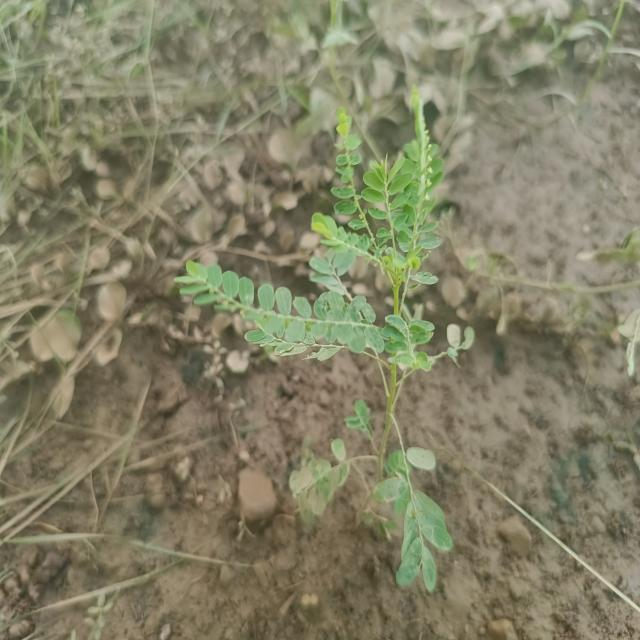weed: (156, 118, 466, 603)
